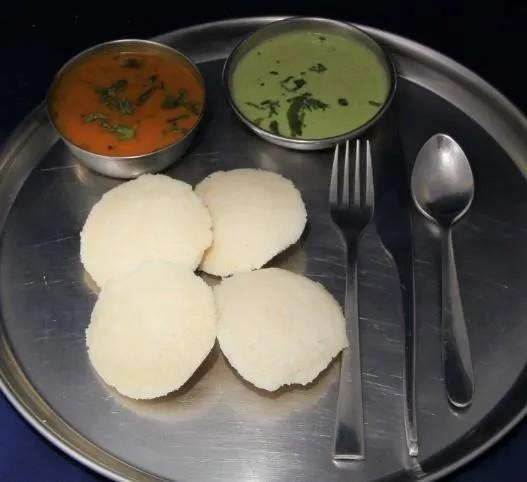Idli: (85, 269, 213, 397), (214, 267, 347, 388), (78, 174, 210, 291), (194, 167, 305, 275)
